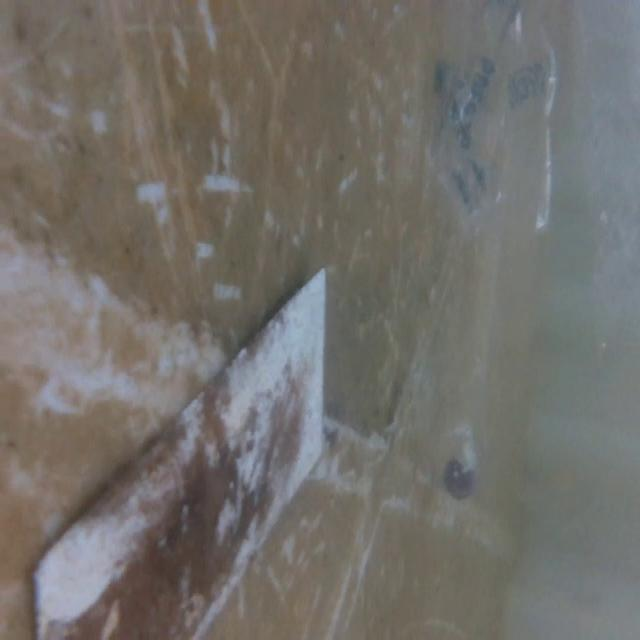plastic bags: (425, 11, 562, 240)
